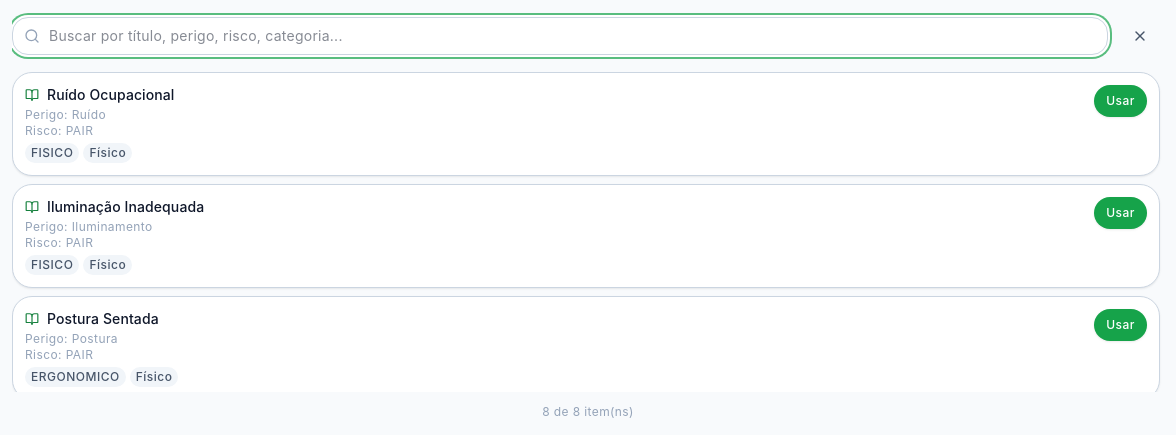
Scenario: BibliotecaRiscoSelector › filtra itens por texto de busca
This screenshot has width=1176, height=435.
Type "ruído" into the field with placeholder "Buscar por título, perigo, risco, categoria...".
click(560, 36); type("ruído")  # box top-left (12, 17), bottom-right (1108, 55)
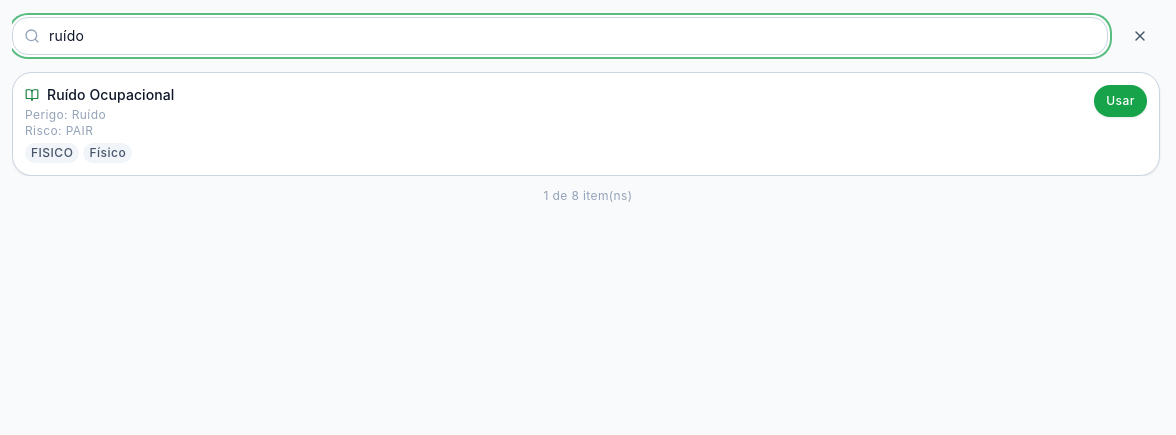
expect the text "Ruído Ocupacional" is shown: met, box top-left (47, 85), bottom-right (174, 105)
expect the button "Postura Sentada" is gone: met
